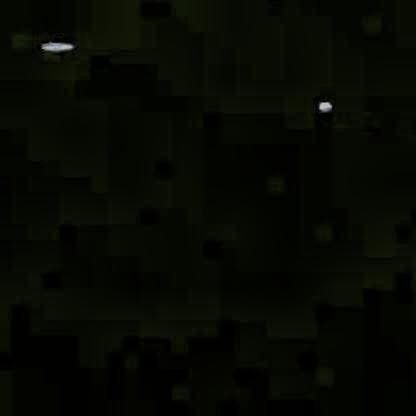golfball: (316, 99, 331, 113)
